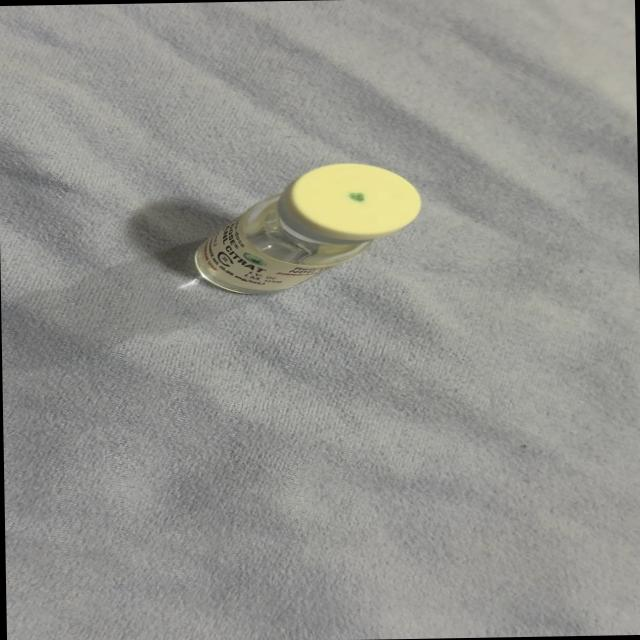fentanl_citrat: (194, 163, 418, 293)
